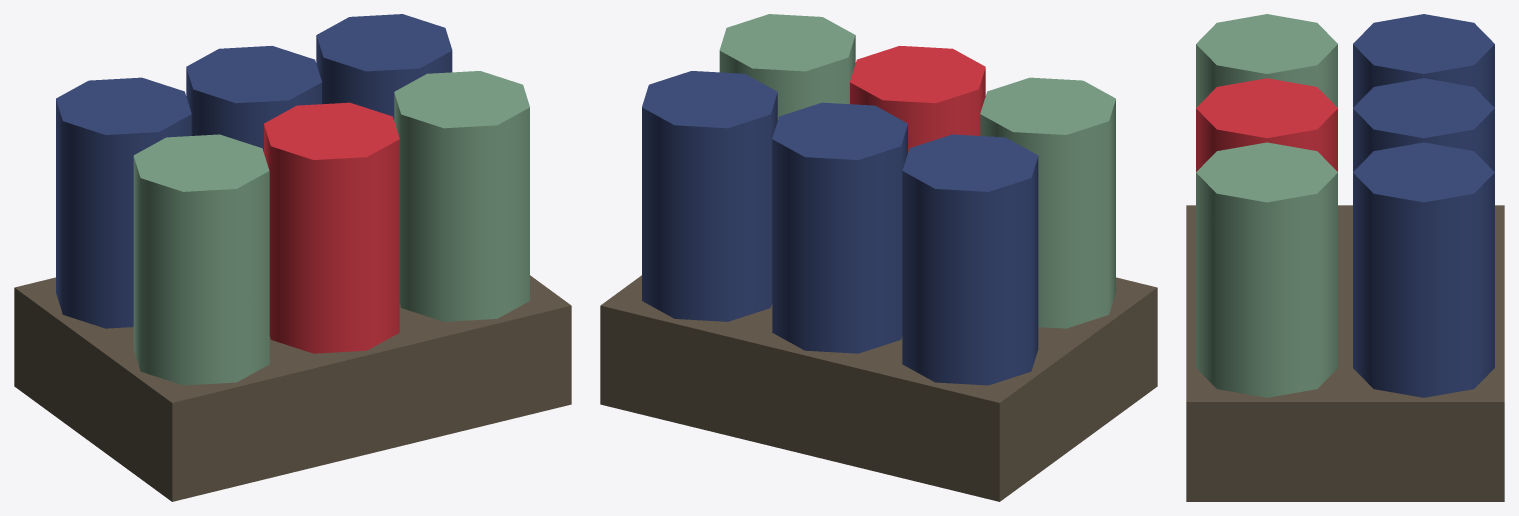
File: site_clutter2.fbx
The picture shows the model from 3 angles, left to right: view 1: azimuth 30°, elevation 25°; view 2: azimuth 150°, elevation 25°; view 3: azimuth 270°, elevation 25°; orthographic projection.
Parts seen in each view (by area): view 1: a1022/0/site_clutter2; view 2: a1022/0/site_clutter2; view 3: a1022/0/site_clutter2.
Boxes of the visible parts, x1,y1,x2,y2 form: a1022/0/site_clutter2: (14, 14, 571, 501); a1022/0/site_clutter2: (600, 14, 1157, 501); a1022/0/site_clutter2: (1186, 14, 1504, 501).
Size of the model in its own units: 1.9 by 1.33 by 1.3.
